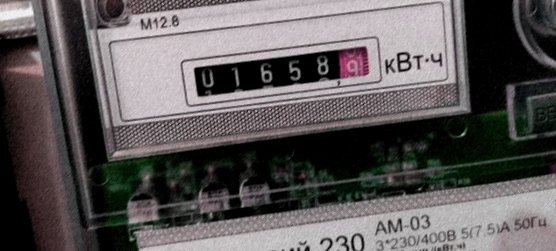0: (200, 65, 216, 89)
1: (230, 64, 243, 88)
5: (286, 57, 304, 82)
6: (258, 60, 275, 84)
8: (314, 52, 331, 76)
9: (343, 57, 360, 80)
screen: (174, 26, 392, 115)
